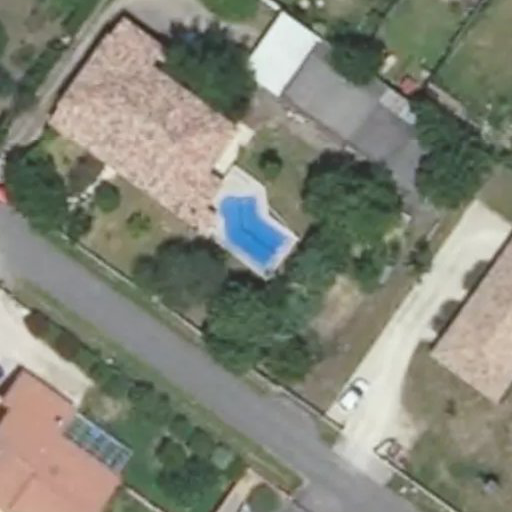pool: (212, 221, 294, 258)
